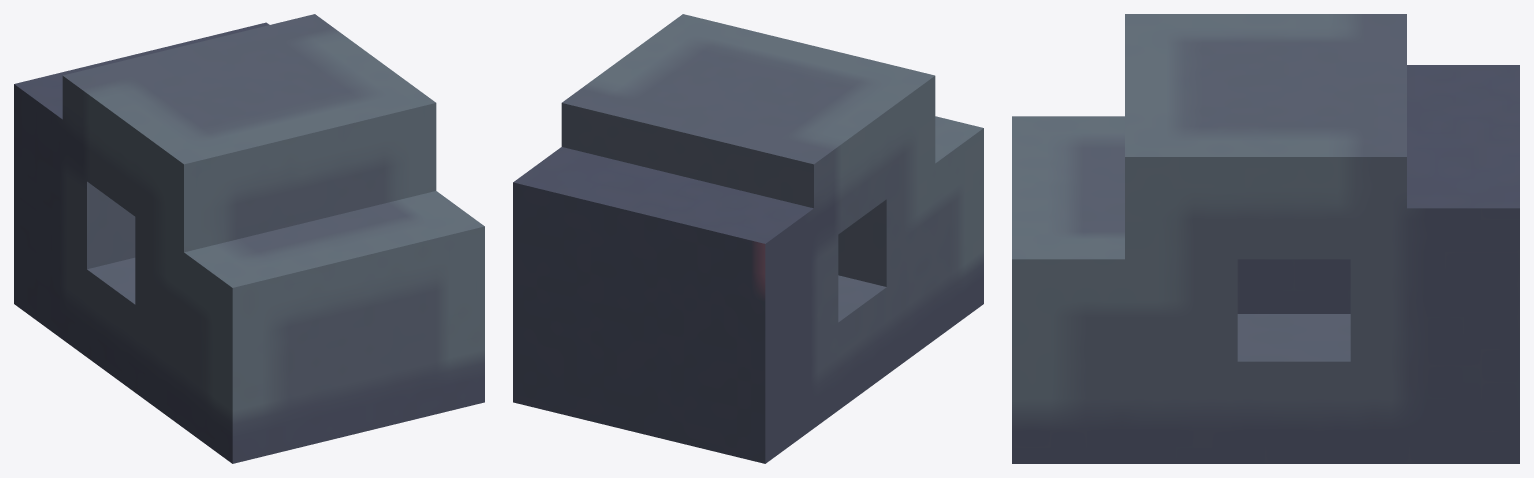
Rendered from Prop_15.fbx.
The picture shows the model from 3 angles, left to right: view 1: azimuth 30°, elevation 25°; view 2: azimuth 150°, elevation 25°; view 3: azimuth 270°, elevation 25°; orthographic projection. The views are drawn at different scales.
Visible parts, largest first — view 1: Prop_15; view 2: Prop_15; view 3: Prop_15.
Part boxes in pixels (x1=…): Prop_15: x1=14, y1=14, x2=484, y2=463; Prop_15: x1=513, y1=14, x2=983, y2=463; Prop_15: x1=1012, y1=14, x2=1519, y2=463.
Size of the model in its own units: 30 by 30 by 45.
